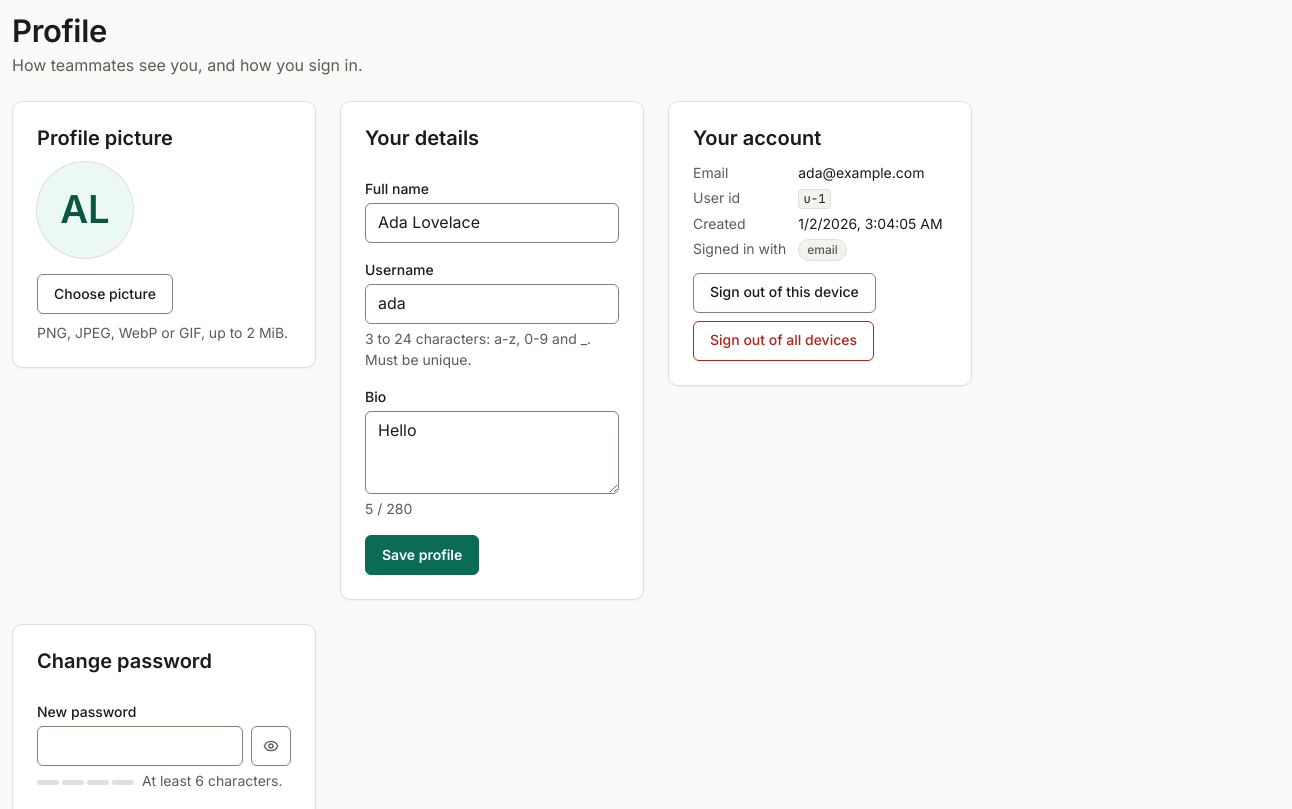
Test: ProfilePage › maps 23505 to "That username is taken"
Click the button "Save profile".
click(422, 555)  # box [365,535,479,575]
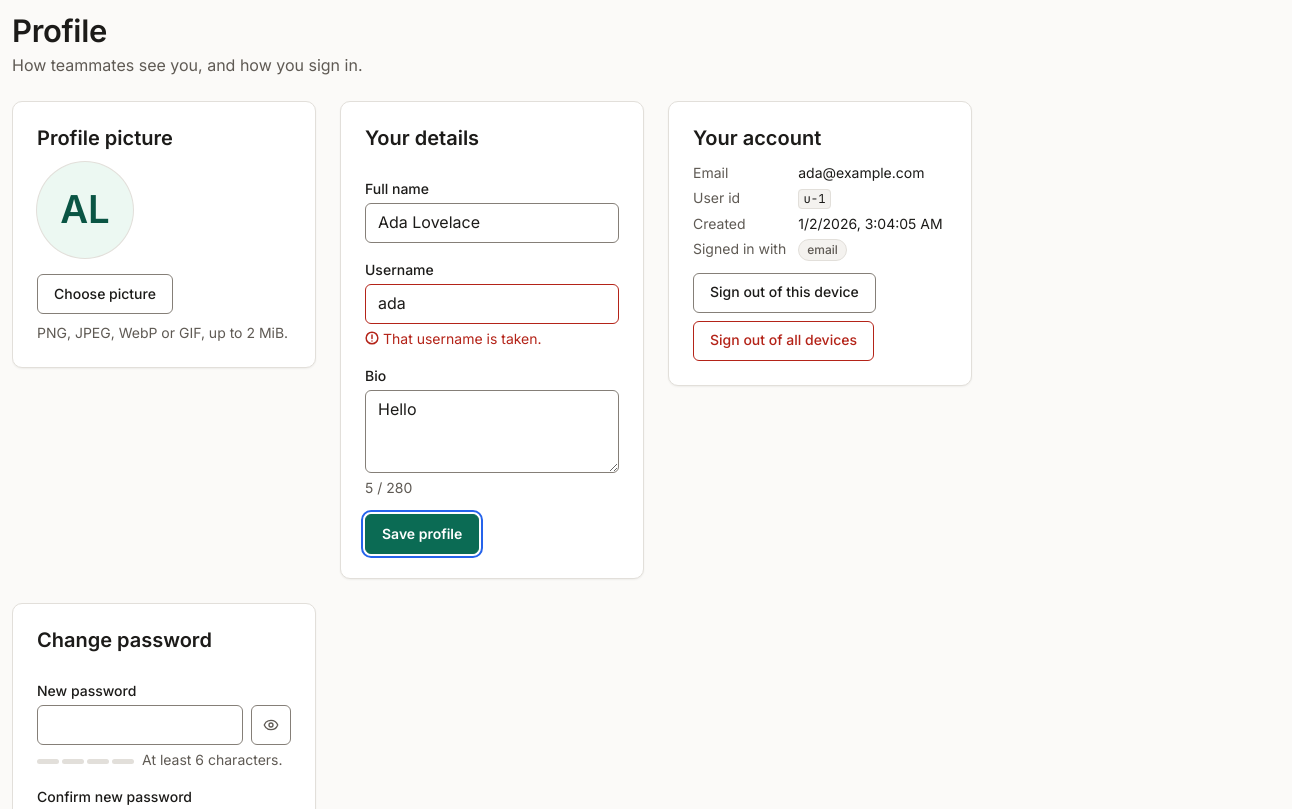
Check: the message shows "That username is taken", box [383,330,542,347]
